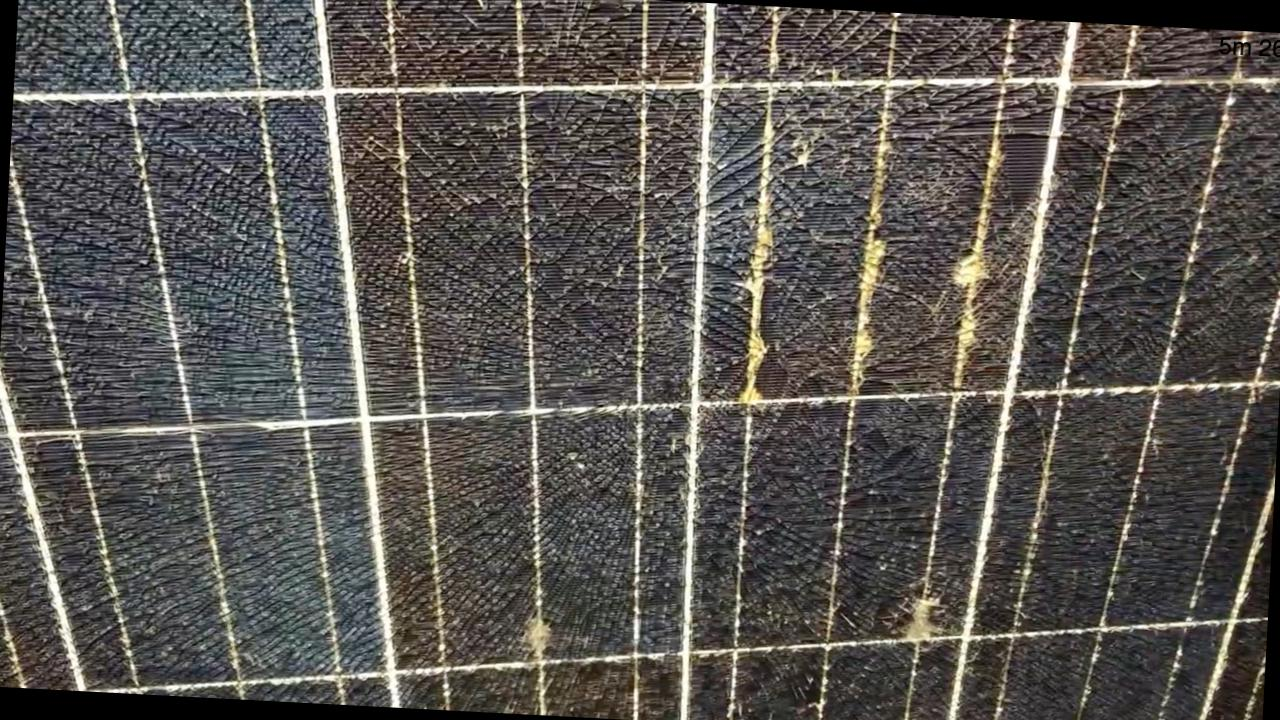Crack: (696, 182, 1048, 688)
